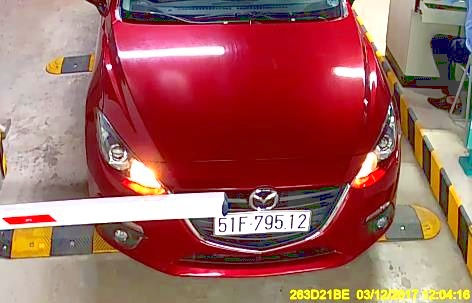plate: (210, 209, 314, 237)
